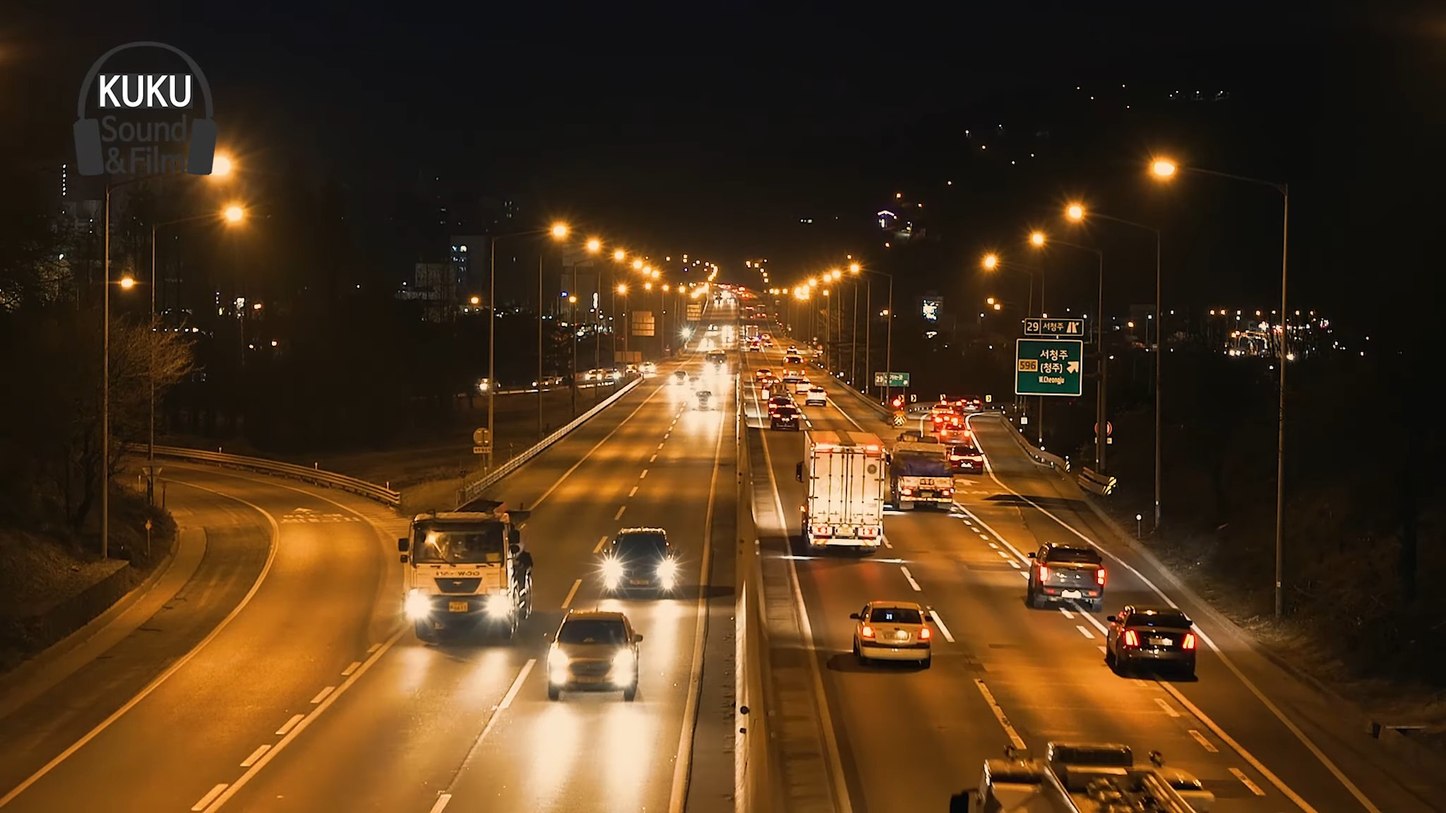car: (544, 600, 640, 700), (602, 524, 679, 605), (1109, 607, 1199, 676), (1026, 546, 1110, 610), (855, 602, 934, 662)
truck: (405, 505, 534, 638), (798, 429, 893, 563), (890, 438, 954, 519)
